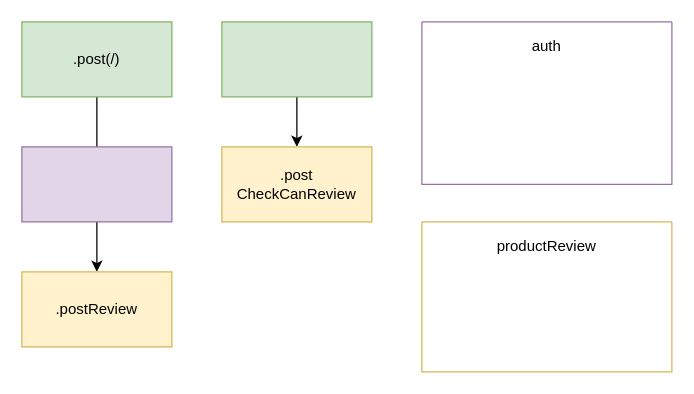
This 694x394 diagram has some shape labels left out. Each missing label, with the centre of its shape:
".post(/check-can-review)" goes at (x=296, y=59).
"required LoginWithBoom" goes at (x=96, y=184).
